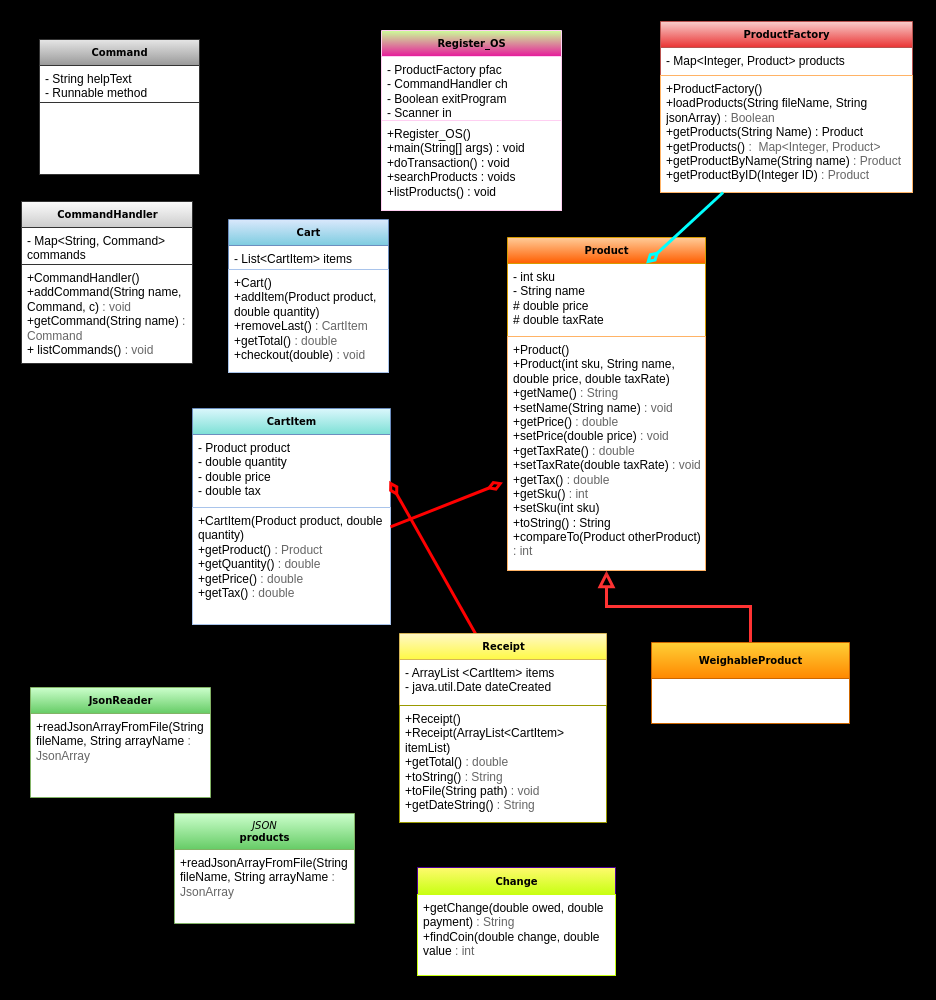
The diagram is 936 pixels wide and 1000 high, and some of its shapes have lost their labels. The centre of each missing label's shape, as x and y in pixels:
"+Command(Runnable method, String helpText) +getHelpText() : String +run() : void" goes at (119,138).
"+getPrice(double weight) : double +getTax(double weight) : double" goes at (750,701).
